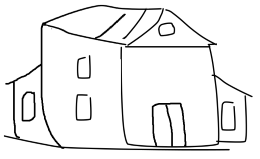big_house: (1, 2, 260, 159)
door: (147, 99, 195, 154)
open_window: (71, 89, 97, 122), (220, 96, 241, 134), (19, 84, 38, 126), (70, 52, 95, 82)
roof: (29, 3, 222, 51)
wall: (118, 42, 221, 149)
